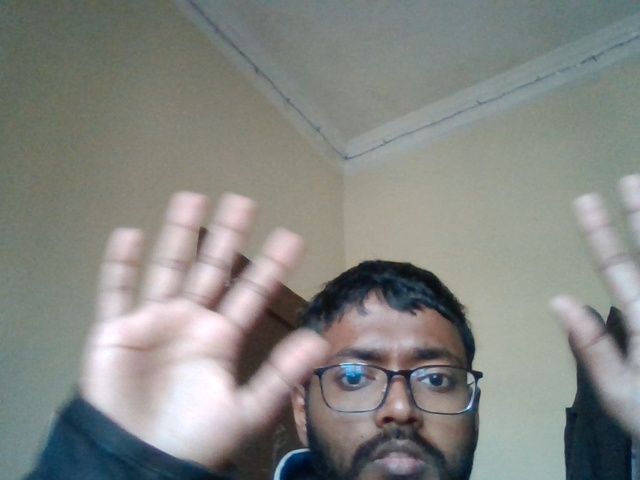Hello: (42, 150, 320, 465)
